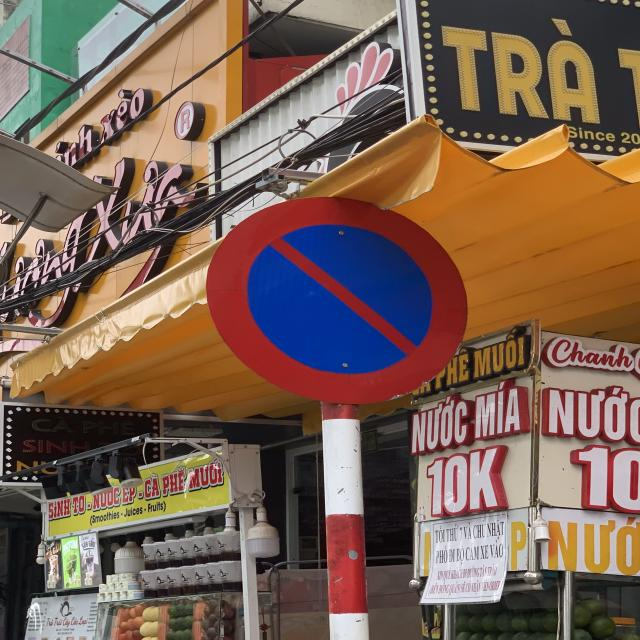Cam_Dau_Xe: (204, 190, 472, 408)
